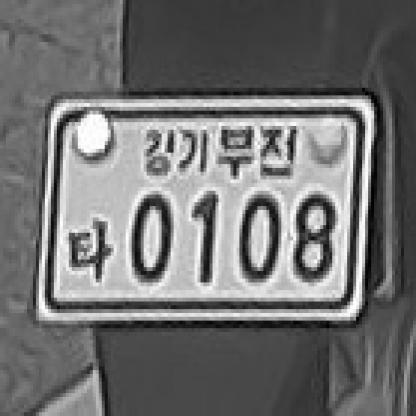bnum: (31, 85, 382, 332)
